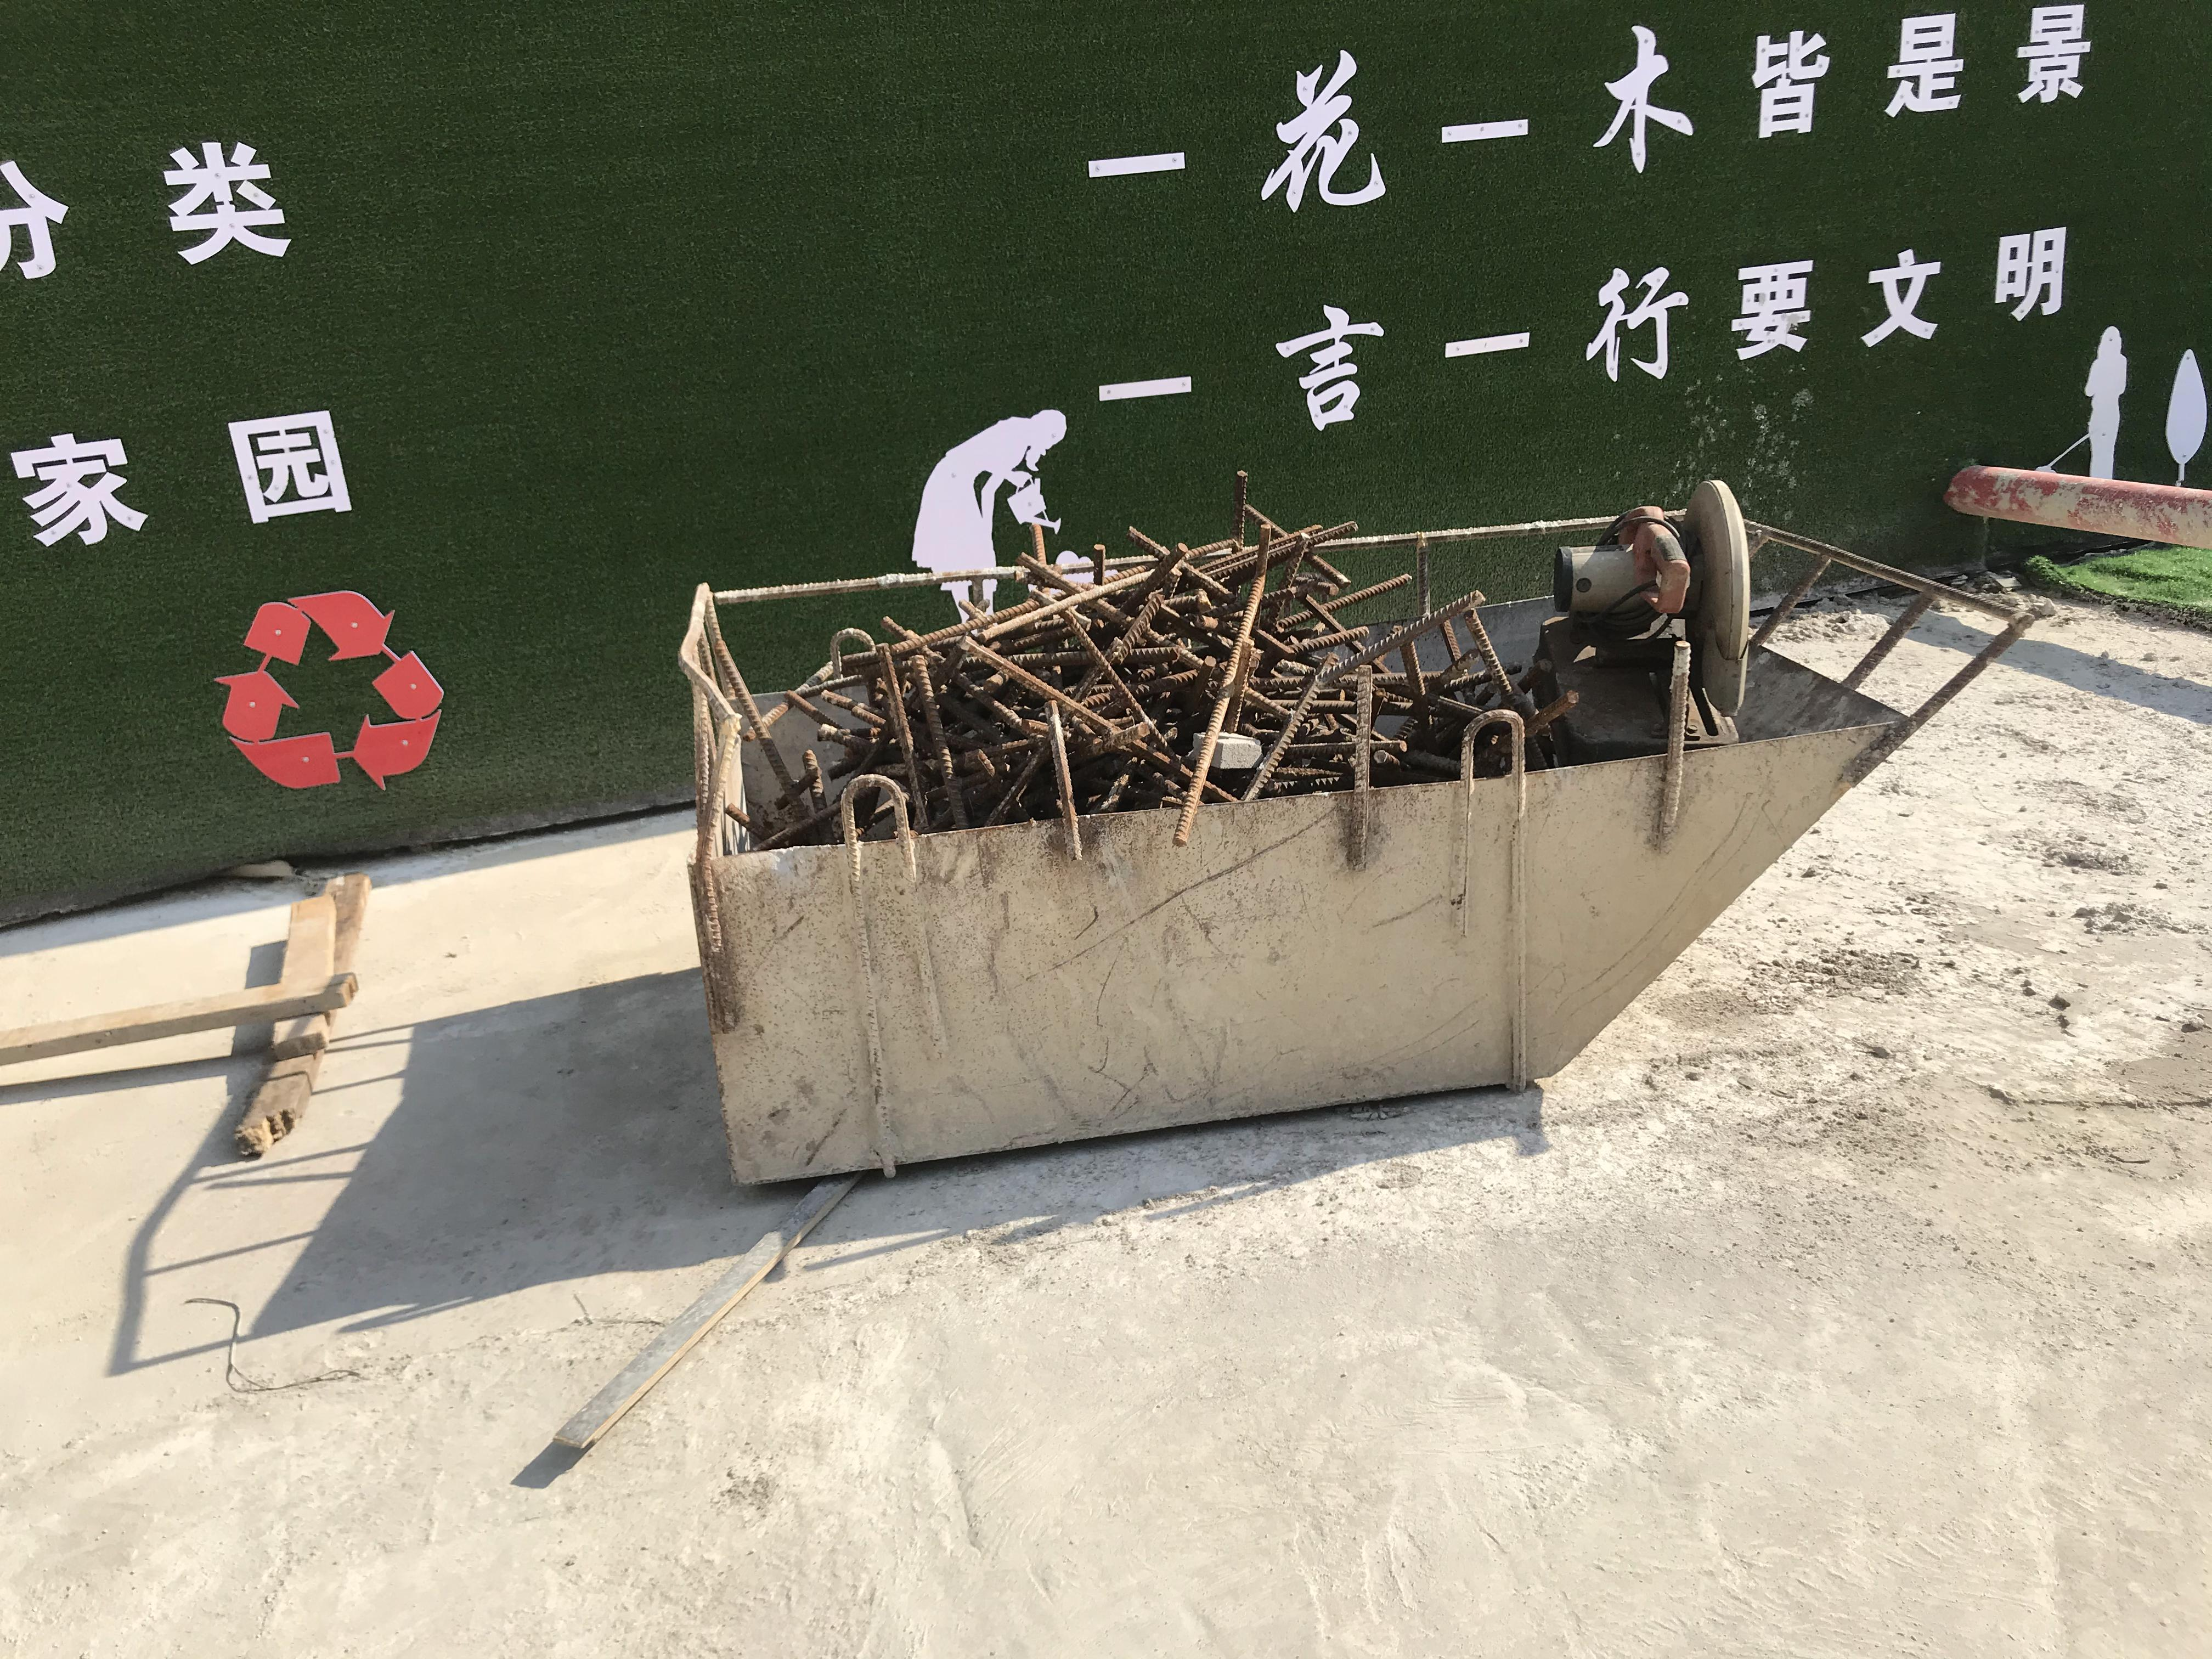hopper: (669, 471, 2048, 1180)
rebar: (723, 462, 1576, 871)
